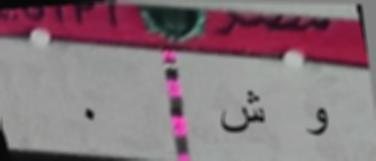0: (80, 103, 103, 132)
sheen: (215, 87, 272, 145)
waw: (296, 100, 341, 148)
